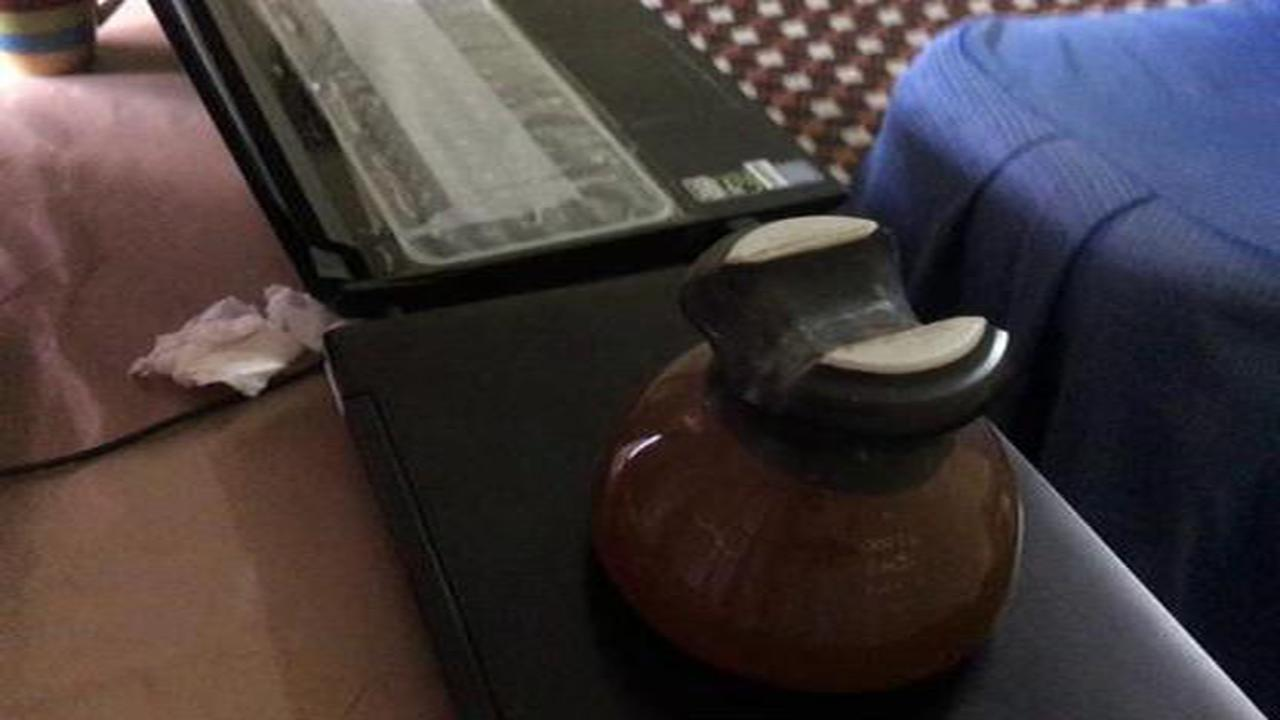insulator_pin: (582, 200, 1037, 710)
